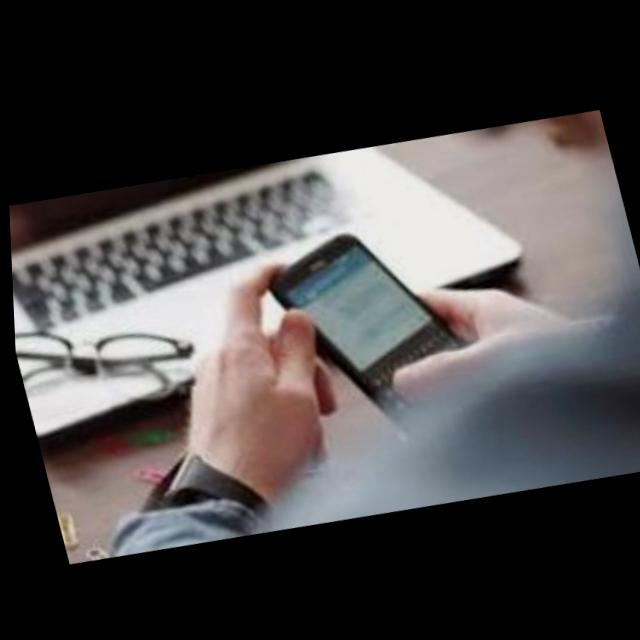Smartphone: (216, 182, 521, 460)
